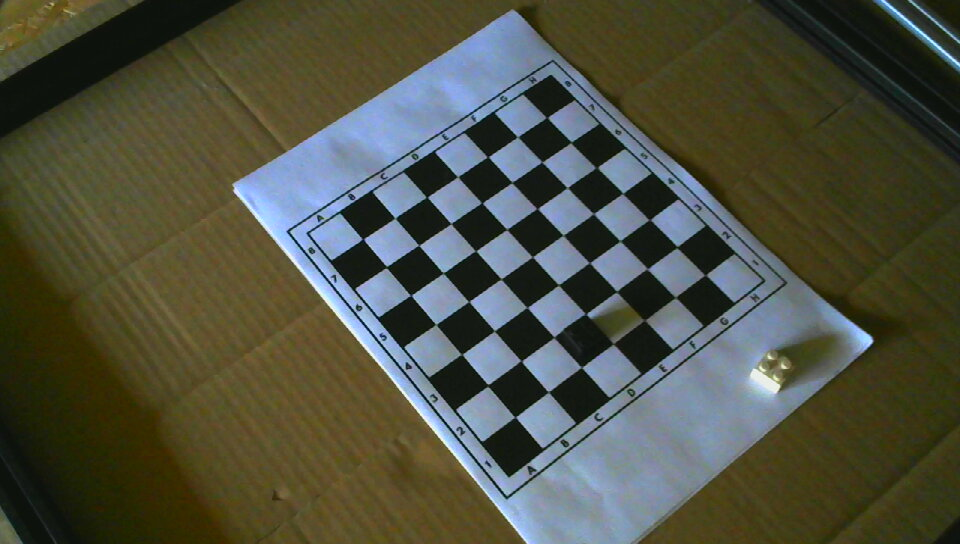bp: (563, 318, 605, 358)
wp: (749, 346, 799, 395)
